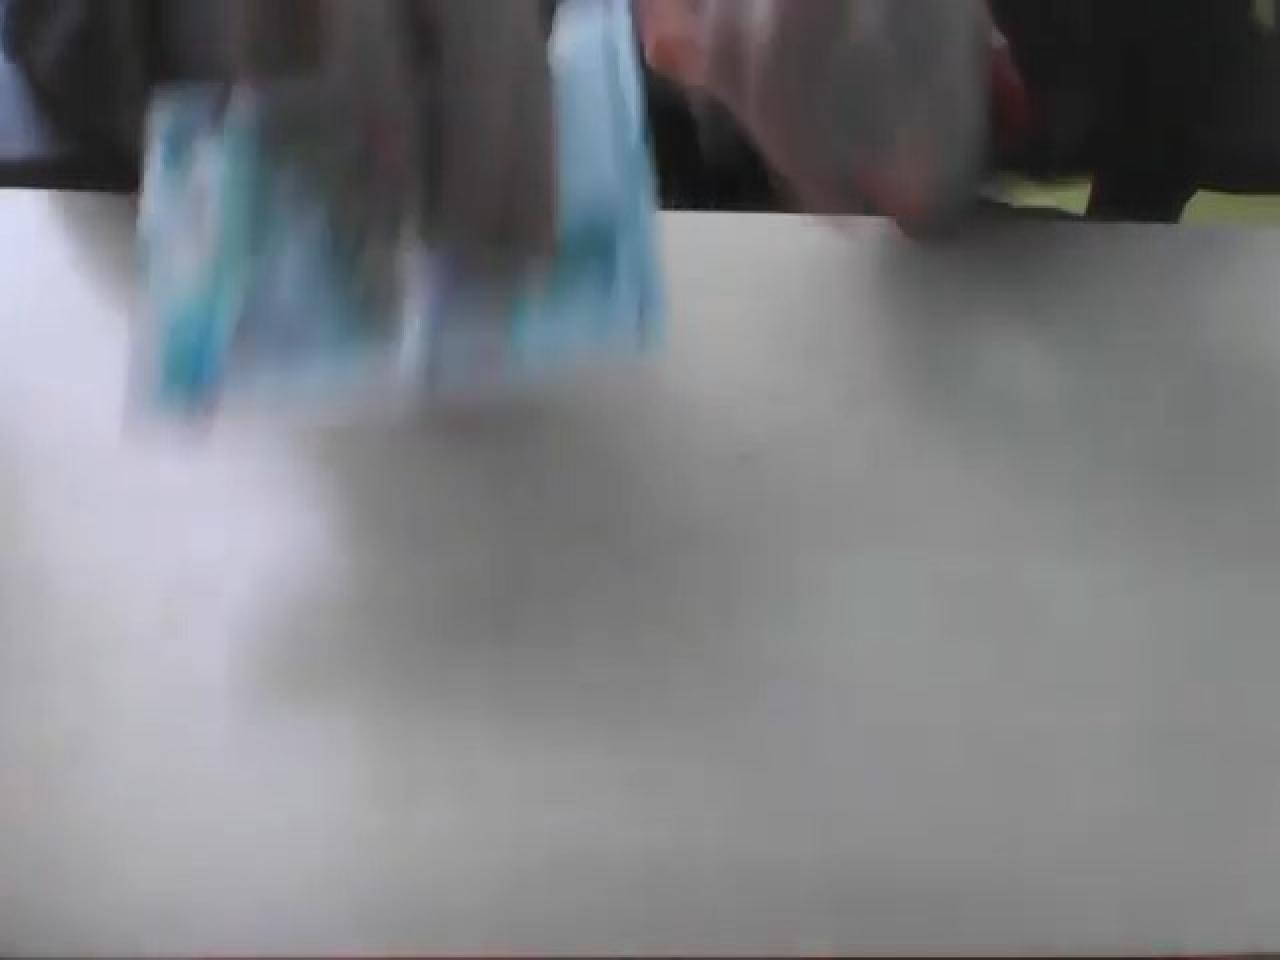100leva: (2, 3, 1274, 952), (4, 0, 1276, 448)
